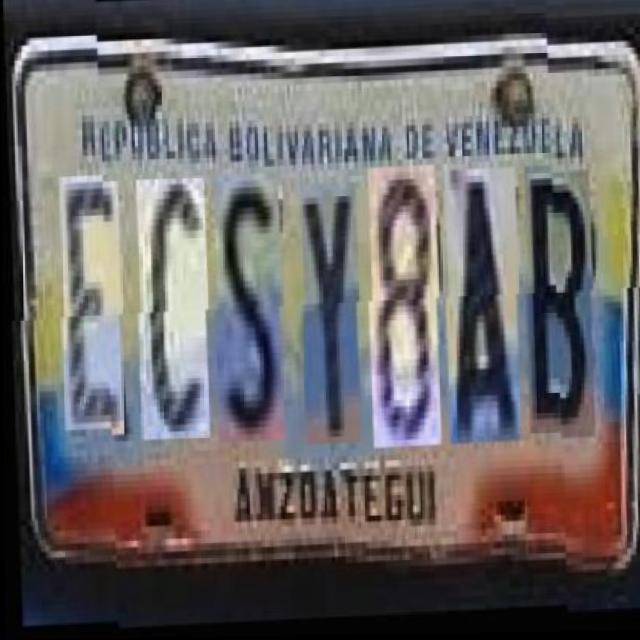8: (366, 170, 441, 452)
a: (443, 171, 521, 449)
b: (522, 170, 594, 439)
c: (135, 179, 211, 442)
e: (58, 182, 124, 438)
s: (212, 176, 284, 444)
y: (297, 186, 362, 448)
